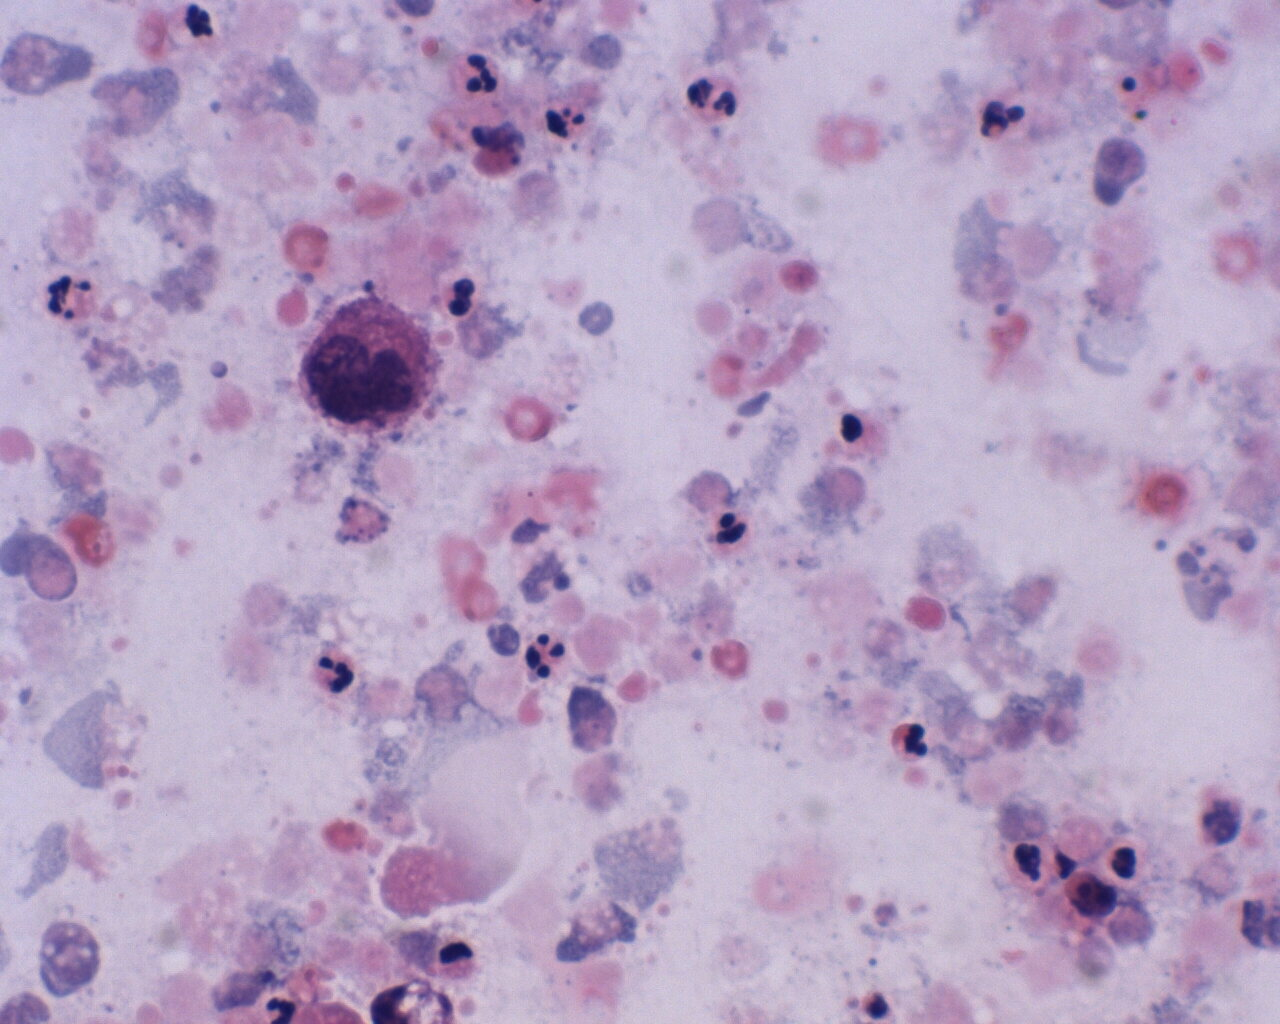ab: (294, 289, 445, 441)
neutro: (520, 622, 573, 691), (453, 43, 509, 101), (894, 717, 941, 766)
